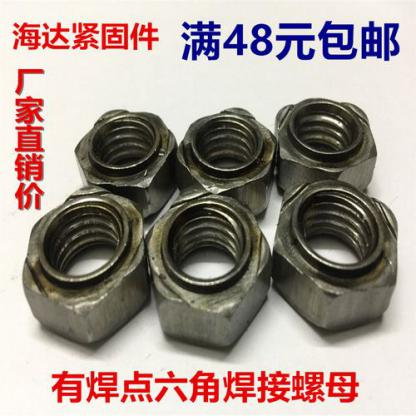FOD: (148, 184, 274, 354), (19, 185, 147, 349), (272, 178, 400, 338), (71, 107, 179, 220), (272, 98, 380, 206), (178, 102, 278, 218)
